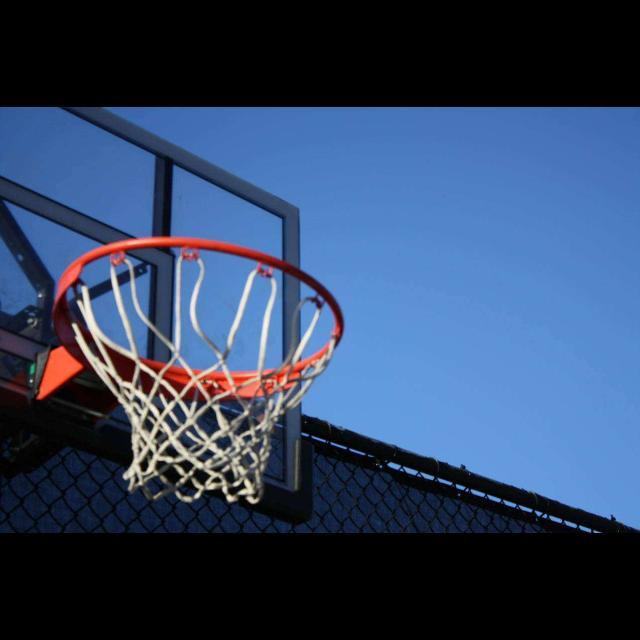rim: (55, 239, 342, 503)
